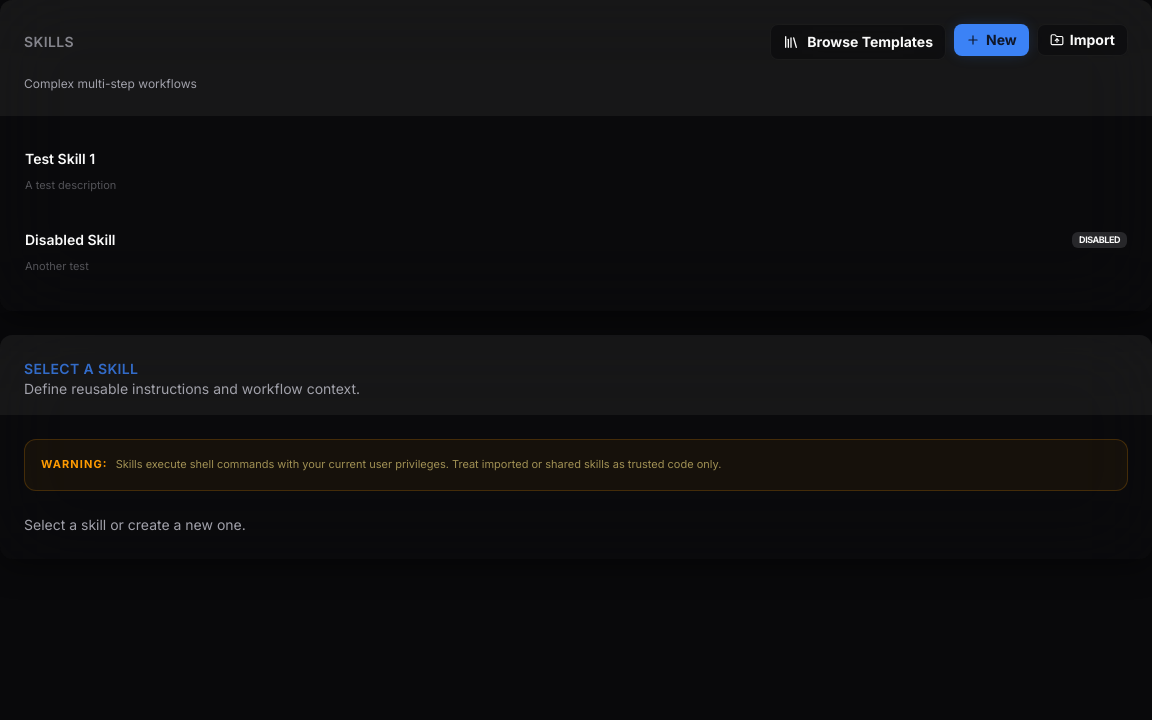
Test: Skills Component › shows adapter distribution checkboxes when supported adapters are loaded
Step 1. Click the text "Test Skill 1" → (60, 159), box [25, 149, 95, 169]
(page scrolled)
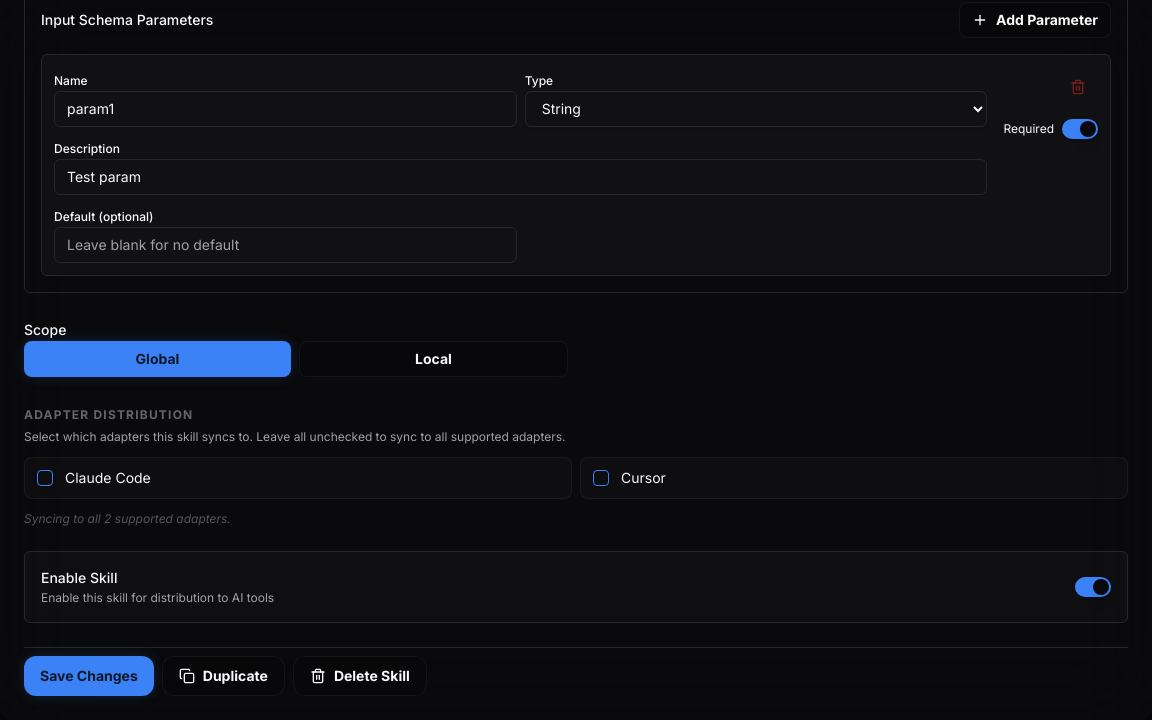
Result: the text "Adapter Distribution" is shown at [24, 407, 193, 422]
Result: the text "Claude Code" is shown at [65, 469, 151, 486]
Result: the text "Cursor" is shown at [621, 469, 666, 486]
